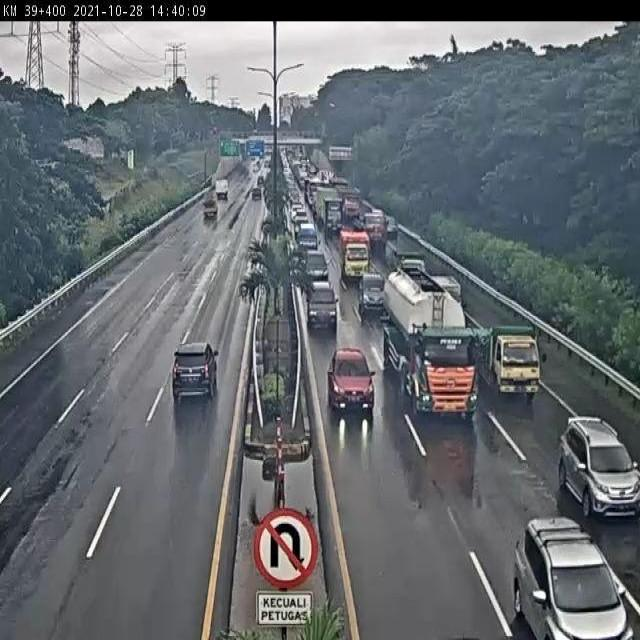car: (327, 349, 378, 414), (306, 279, 341, 328), (357, 273, 388, 320), (197, 290, 233, 330), (301, 249, 330, 288)
truck-m-: (471, 324, 543, 400), (386, 242, 429, 286), (339, 231, 372, 284)
truck-xl-: (381, 268, 480, 421)
